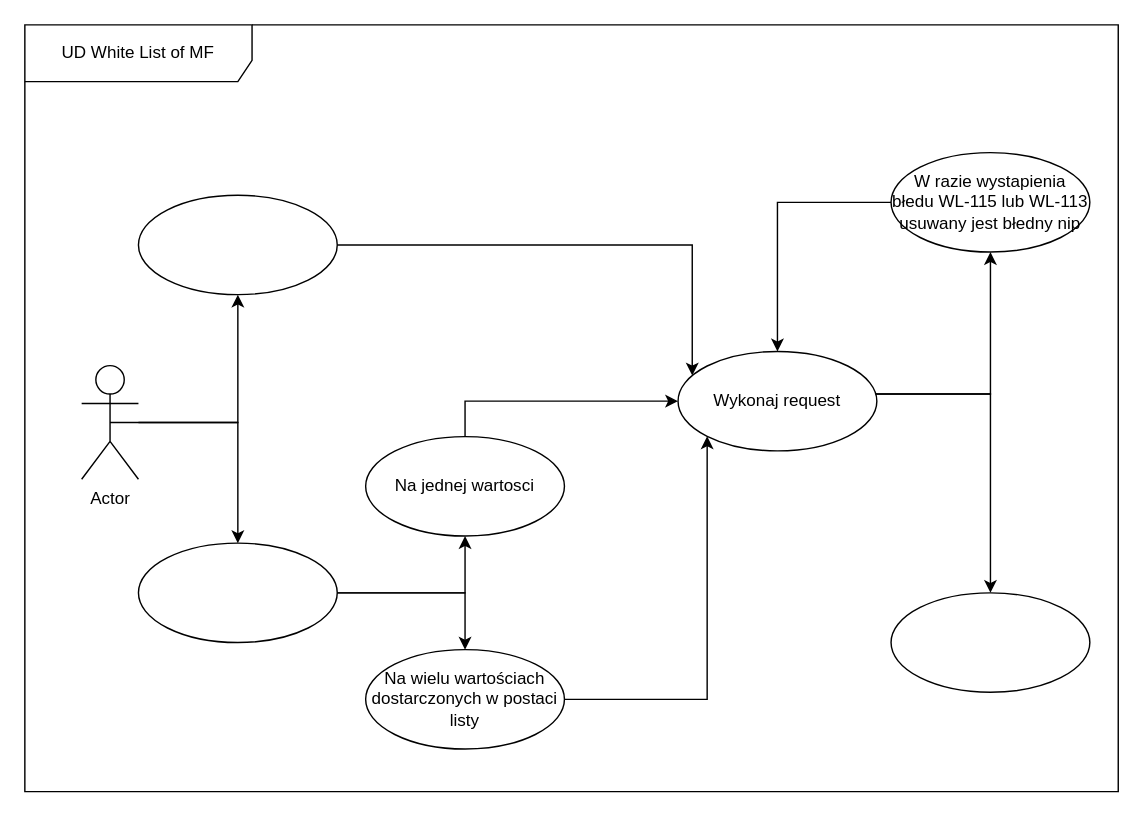
Some shapes in this 1143 by 817 pixel diagram are drawn without their labels. Here are the shapes that lost their labels. From the top down, the box of each, then its label:
(137, 194, 337, 295): Wykonaj metodę check
(137, 542, 337, 643): Wykonaj metodę search
(890, 591, 1090, 692): Zwrot odpowiedzi
